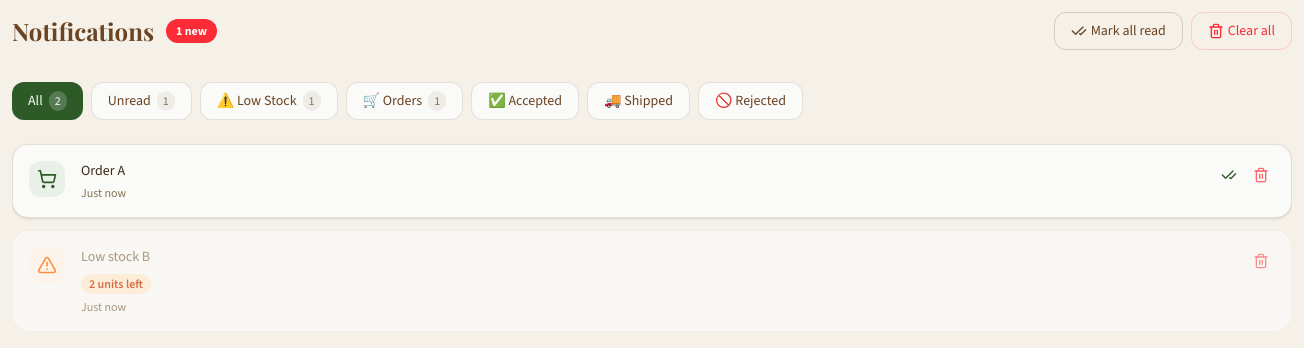
AdminNotifications filters › filters to unread only
Click the button "Unread 1" at [141, 101], box [91,82,192,120]
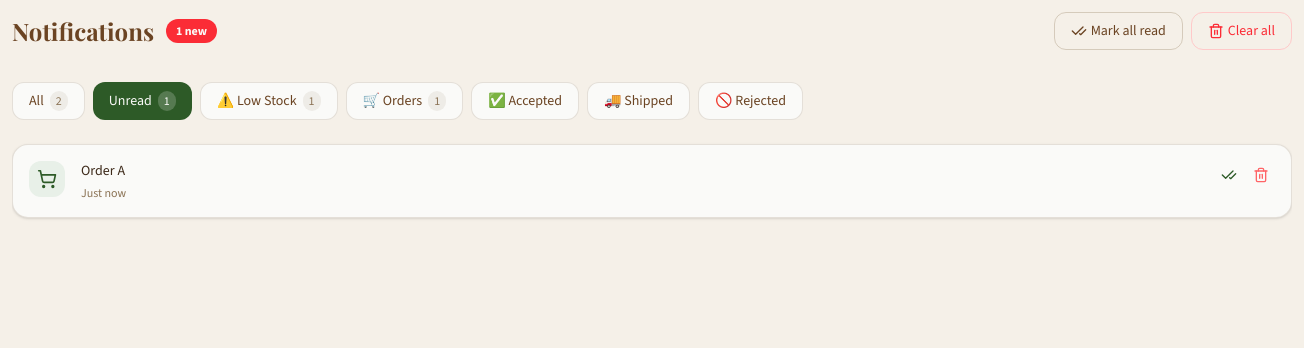
Check: the text "Order A" is shown, box [81,161,125,180]
Check: the text "Low stock B" is gone
